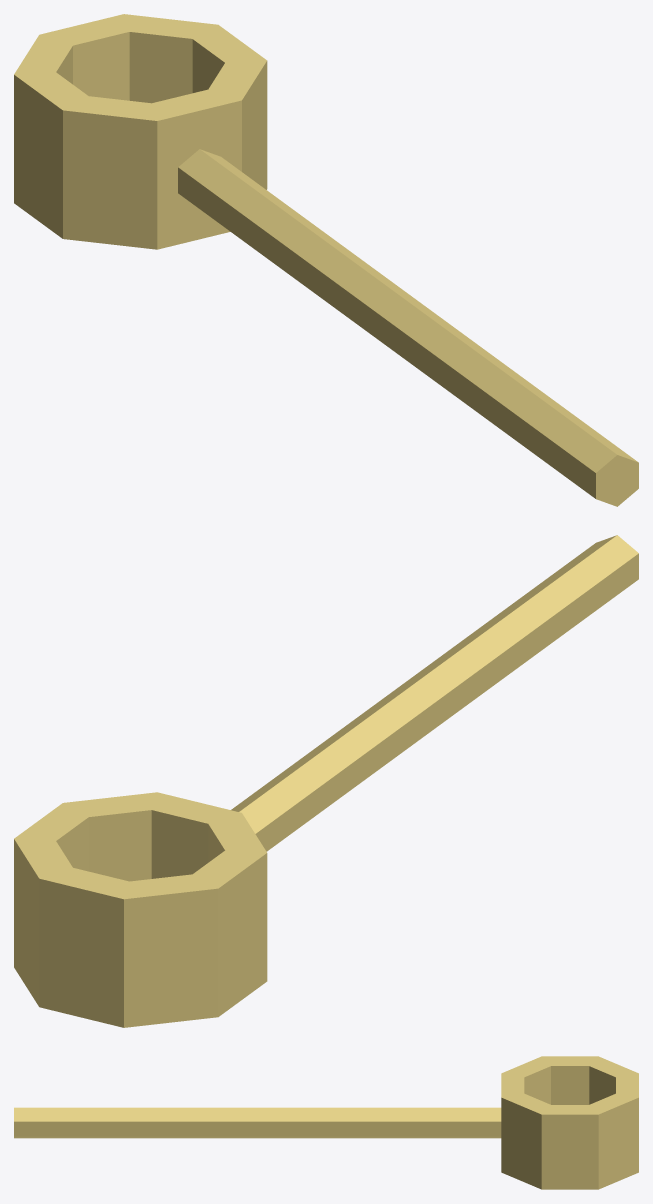
The model's file is Asian_Prop_Shrine_Water_Purification_Scoop_01.FBX.
3 renders of one model, top to bottom at view 1: azimuth 30°, elevation 25°; view 2: azimuth 150°, elevation 25°; view 3: azimuth 270°, elevation 25°, orthographic. The views are drawn at different scales.
Parts seen in each view (by area): view 1: Asian_Prop_Shrine_Water_Purification_Scoop_01; view 2: Asian_Prop_Shrine_Water_Purification_Scoop_01; view 3: Asian_Prop_Shrine_Water_Purification_Scoop_01.
Boxes of the visible parts, <box> form: Asian_Prop_Shrine_Water_Purification_Scoop_01: <box>14,14,638,506</box>; Asian_Prop_Shrine_Water_Purification_Scoop_01: <box>14,535,638,1027</box>; Asian_Prop_Shrine_Water_Purification_Scoop_01: <box>14,1056,638,1189</box>.
Bounding box in the file's own units: 148 × 89 × 672.
